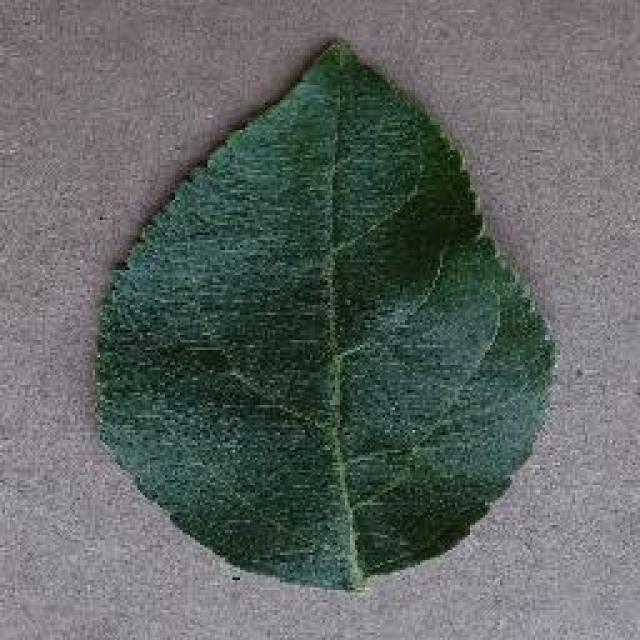apple scab disease: (90, 35, 560, 595)
